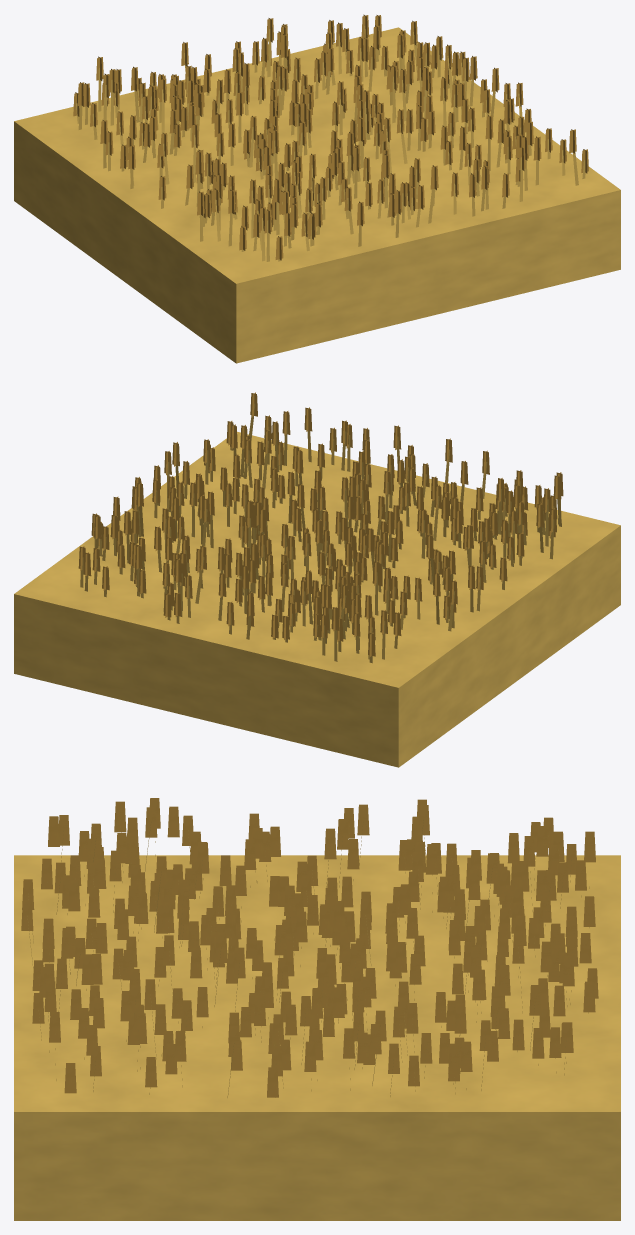
Rendered from pv_psenice_zrala.glb.
The picture shows the model from 3 angles, top to bottom: view 1: azimuth 30°, elevation 25°; view 2: azimuth 150°, elevation 25°; view 3: azimuth 270°, elevation 25°; orthographic projection. The views are drawn at different scales.
Parts seen in each view (by area): view 1: dum; view 2: dum; view 3: dum.
Part boxes in pixels (bbox=[...]): dum: bbox=[14, 14, 620, 363]; dum: bbox=[14, 392, 620, 767]; dum: bbox=[14, 798, 620, 1220].
Bounding box in the file's own units: 2.93 × 1 × 2.93.
Materials: 1 (1 with a texture image).
